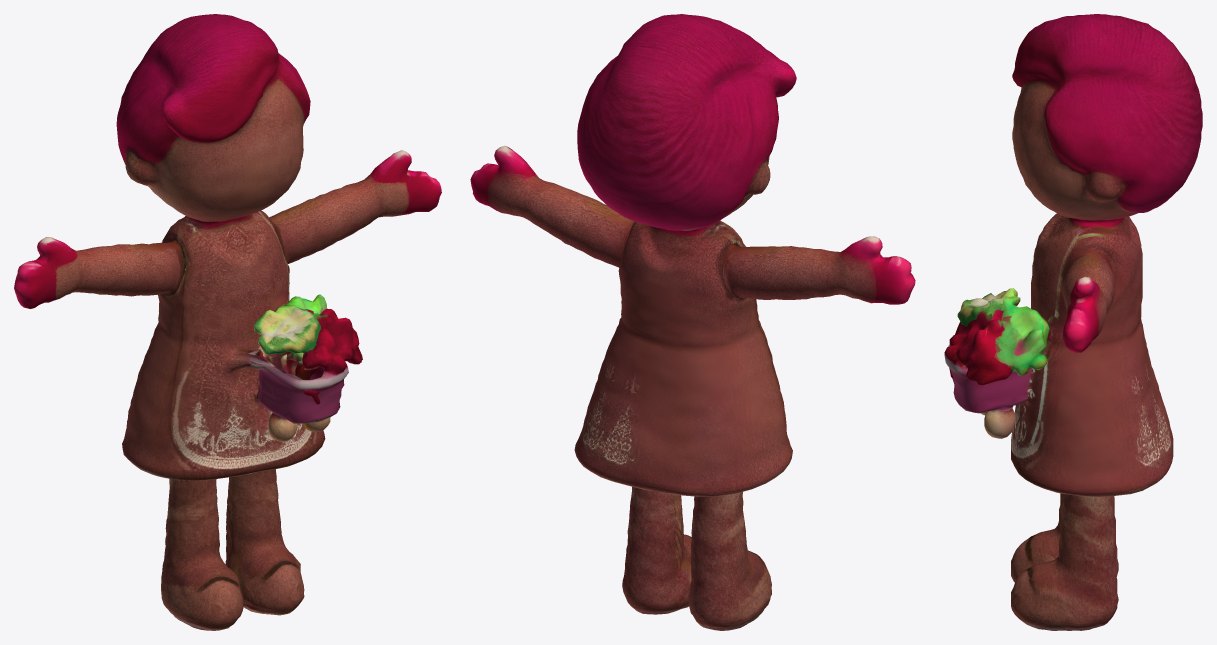
The model's file is hub_flower_seller.glb.
3 renders of one model, left to right at view 1: azimuth 30°, elevation 25°; view 2: azimuth 150°, elevation 25°; view 3: azimuth 270°, elevation 25°, orthographic. The views are drawn at different scales.
Bounding box in the file's own units: 1.48 × 1.91 × 0.7593.
1 material, 1 textured.
